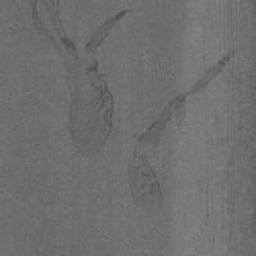Water spot: (125, 47, 238, 215), (27, 0, 134, 159)
